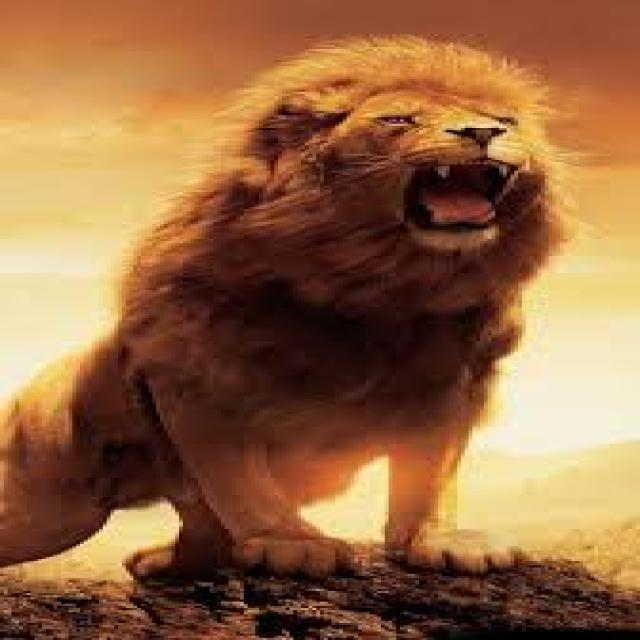Lion: (0, 36, 571, 579)
